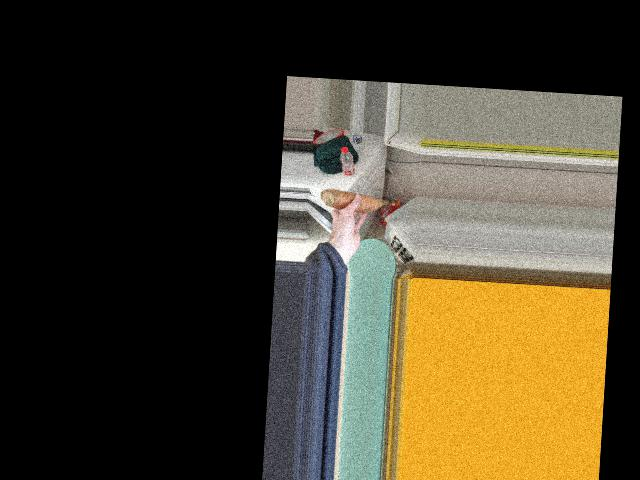sweet_potato: (329, 194, 382, 213)
